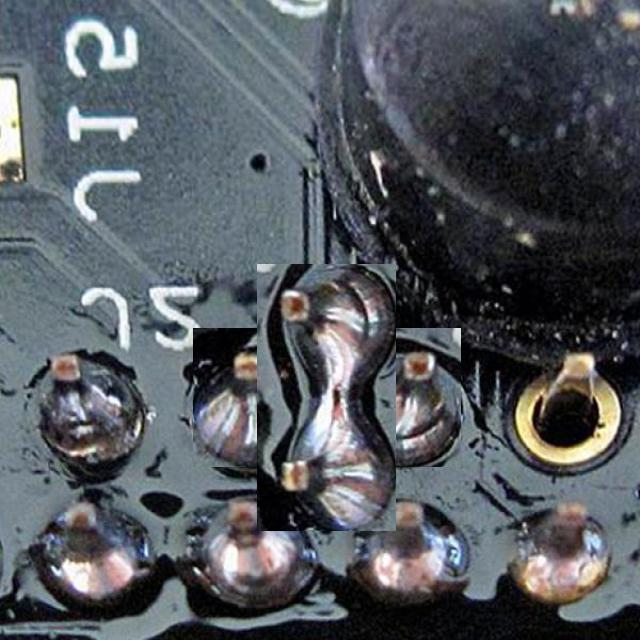Short_circuit: (225, 296, 429, 499)
